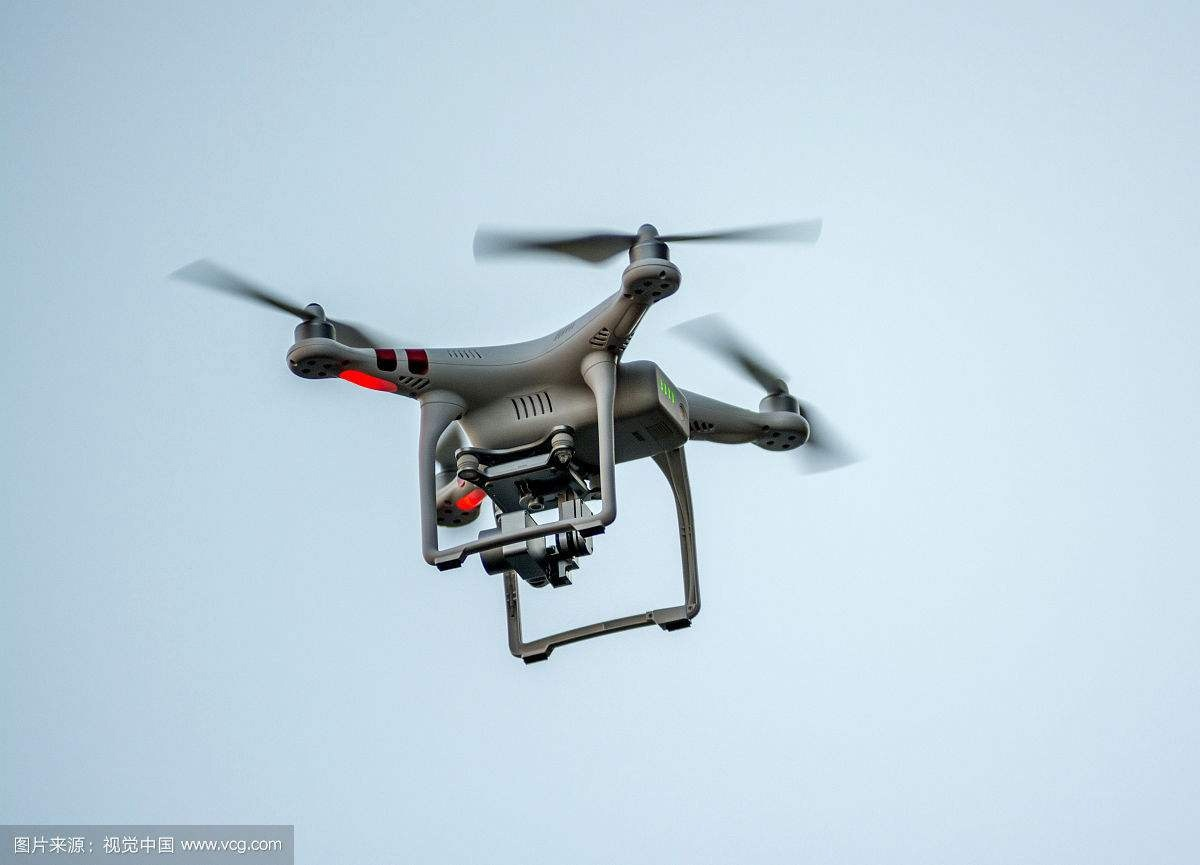DJI: (249, 221, 827, 678)
